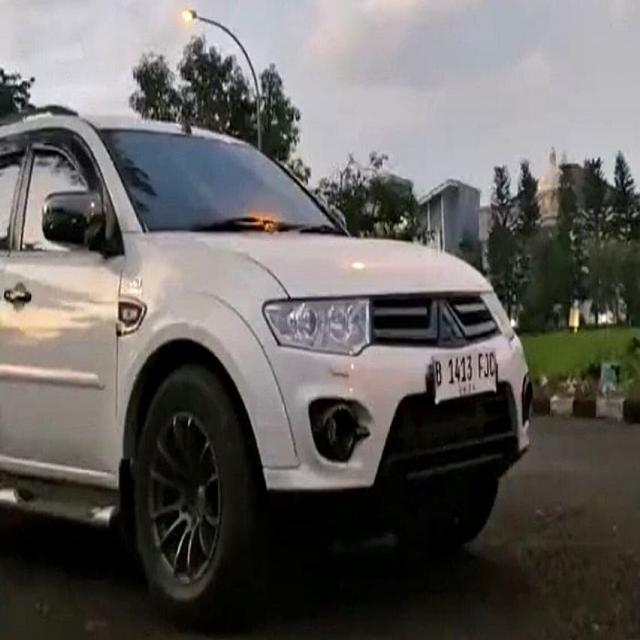license-plat: (426, 334, 516, 417)
